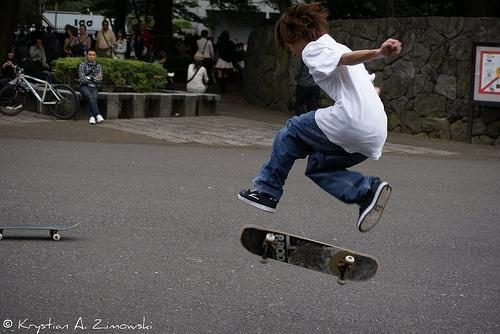bicycle: (0, 64, 83, 124)
